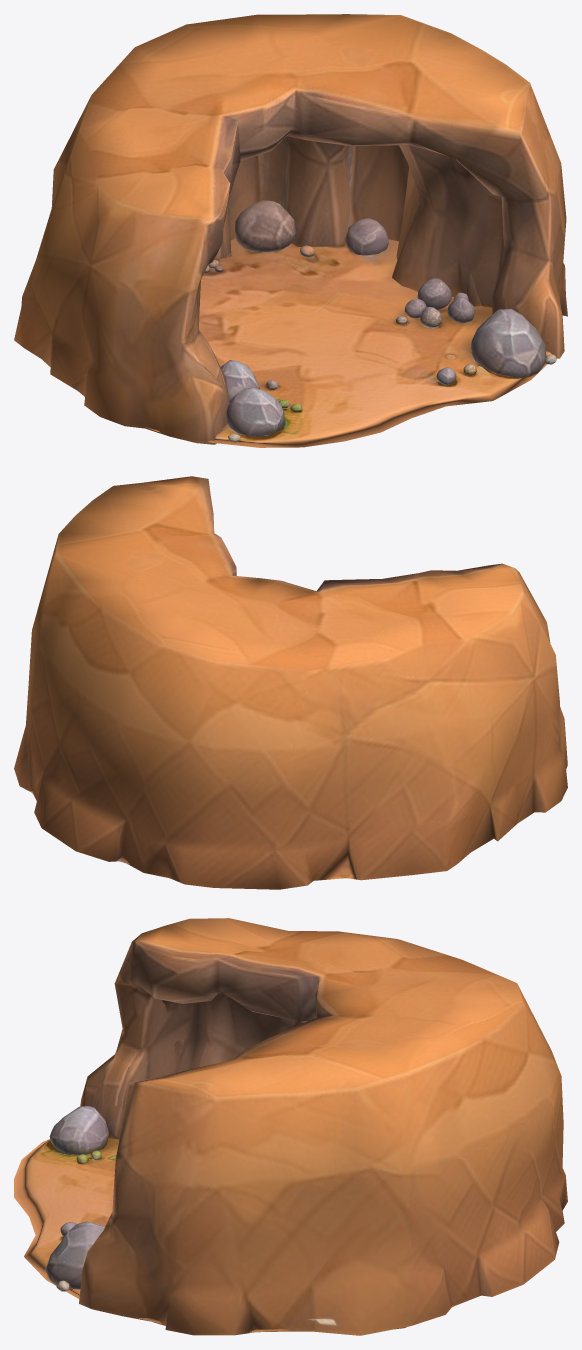
File: r3c3_wide_cave_chamber.glb
3 views of the same model, one above another, from view 1: azimuth 30°, elevation 25°; view 2: azimuth 150°, elevation 25°; view 3: azimuth 270°, elevation 25° (orthographic). The views are drawn at different scales.
Bounding box in the file's own units: 1 × 0.4766 × 1.
Materials: 1 (1 with a texture image).
